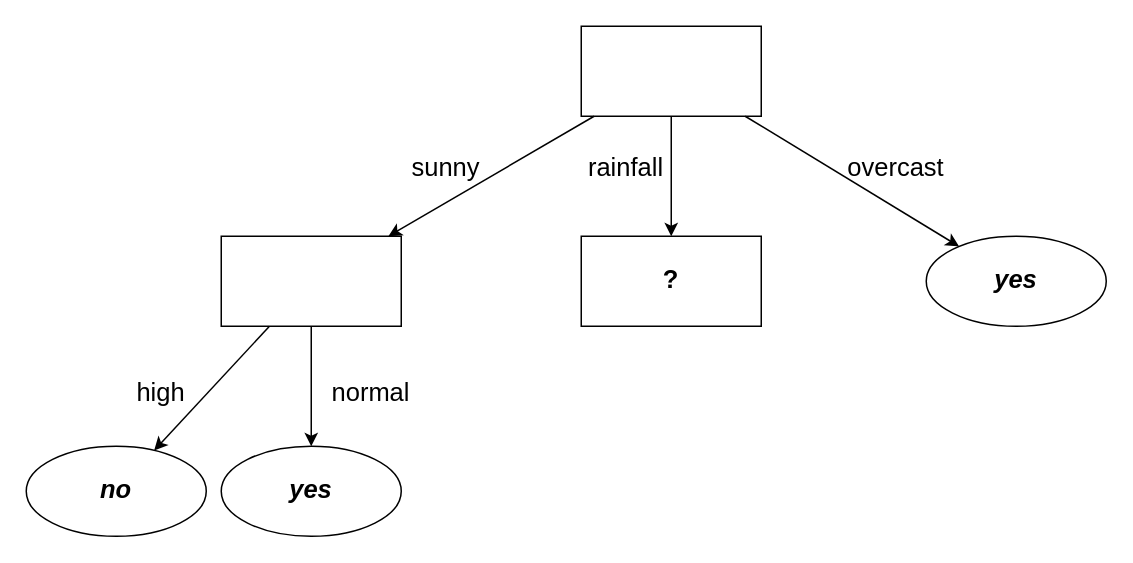
Image size: 1133x563. Some labels were removed from this diagram. The centre of each missing label's shape, as x and y in pixels:
humidity: (310,280)
outlook: (670,70)
